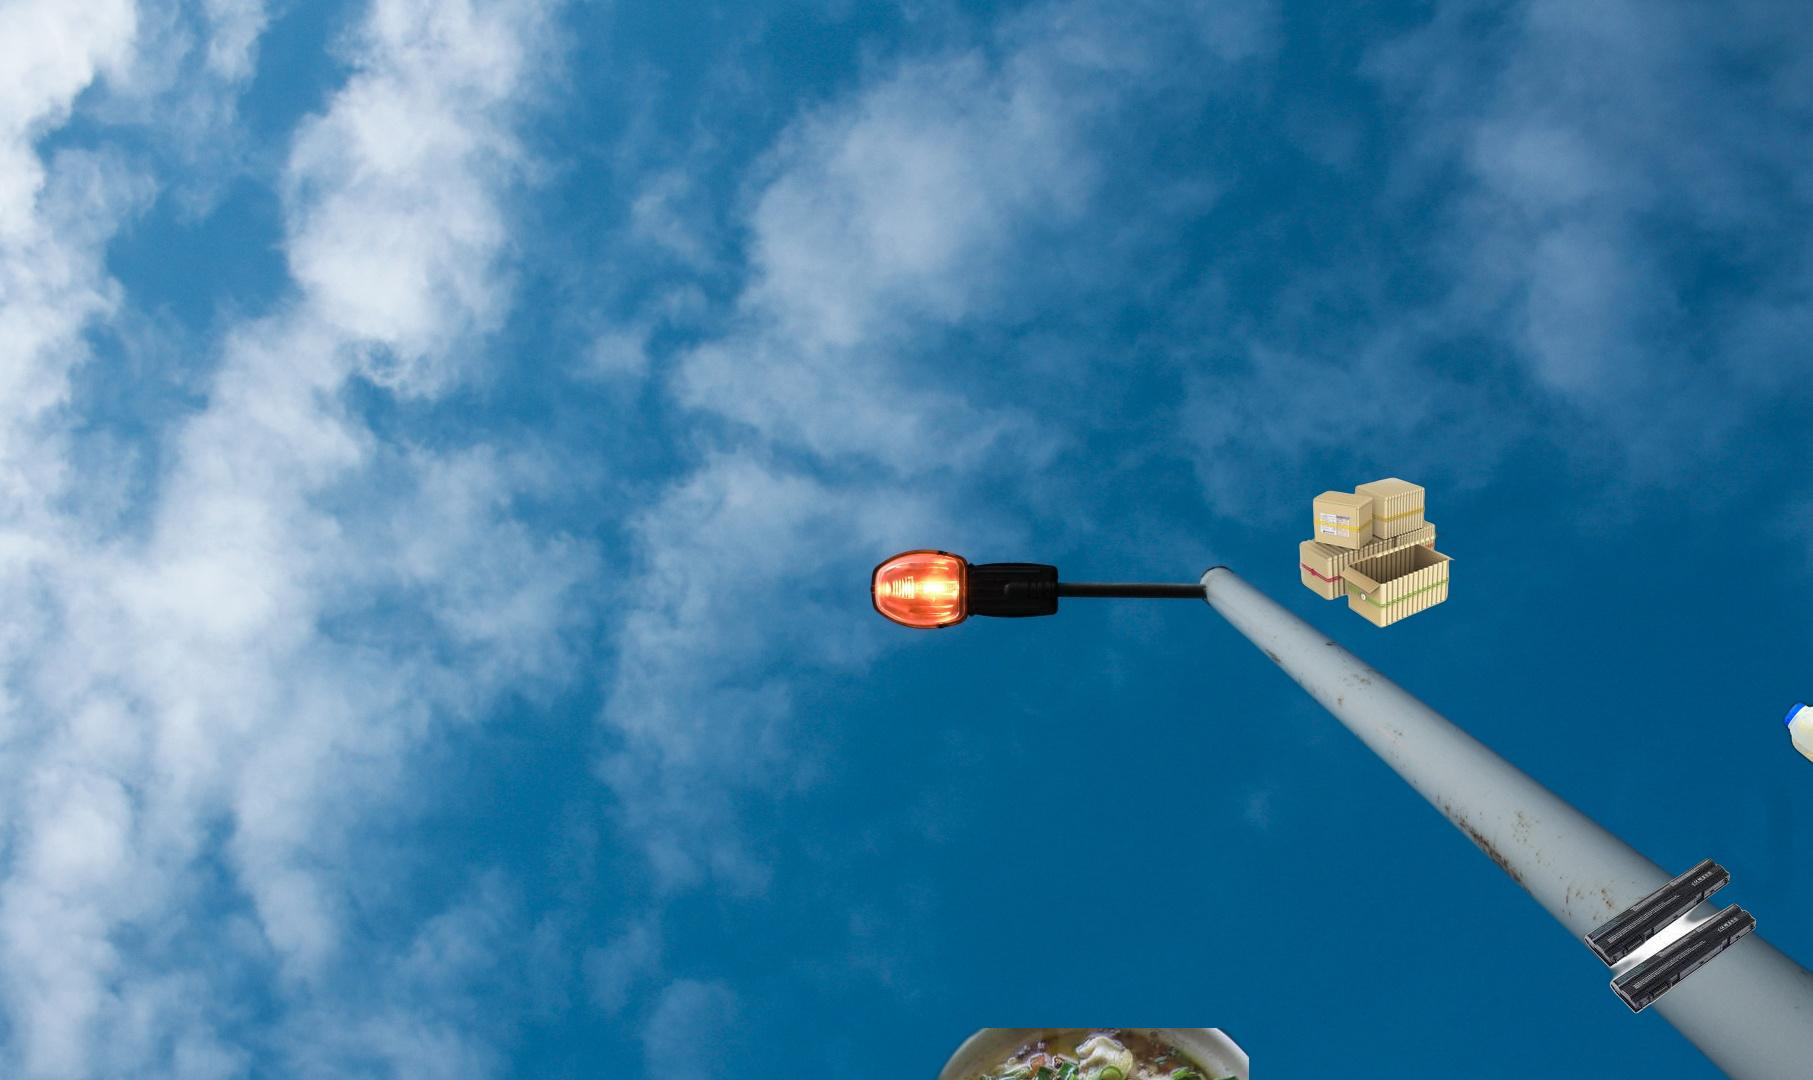battery: (1581, 847, 1759, 1017)
biological: (902, 1028, 1249, 1080)
plastic-bottles: (1778, 695, 1813, 822)
trashbox-cardboard: (1296, 474, 1500, 631)
